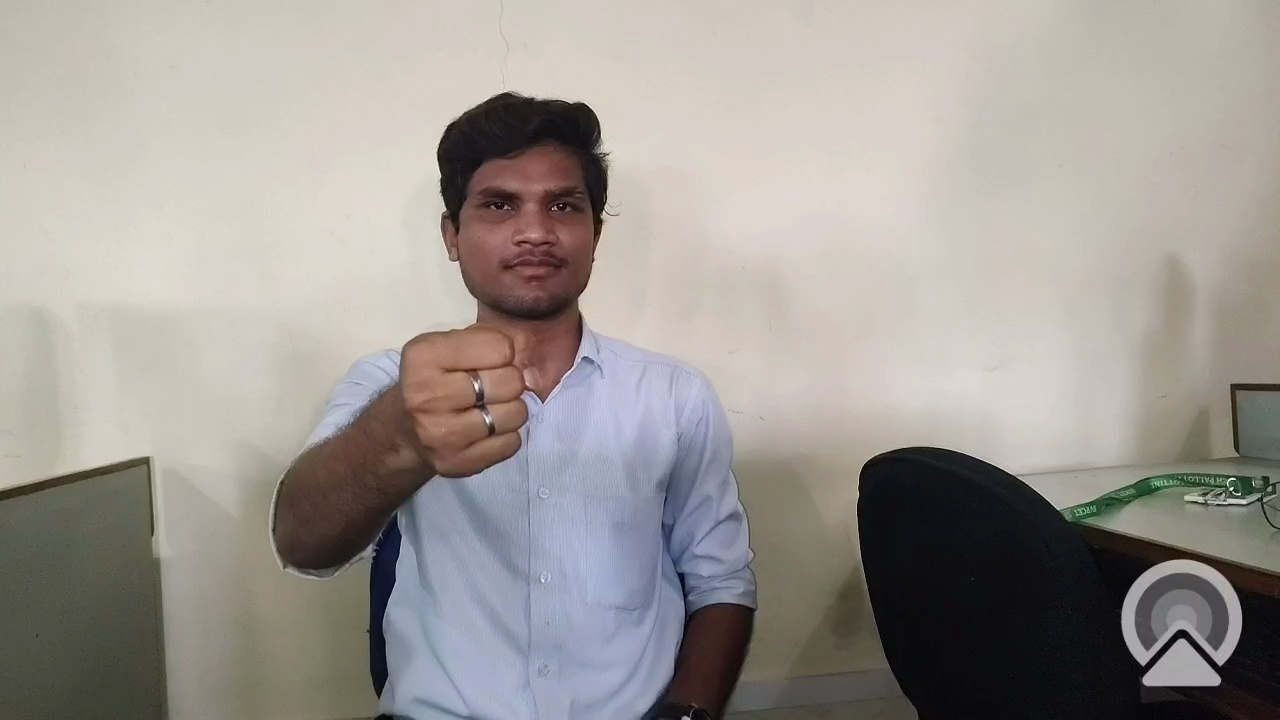Yes: (369, 296, 549, 527)
